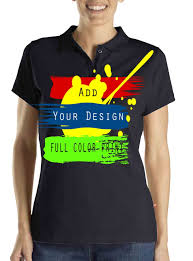C_polo shirt: (15, 24, 185, 249)
